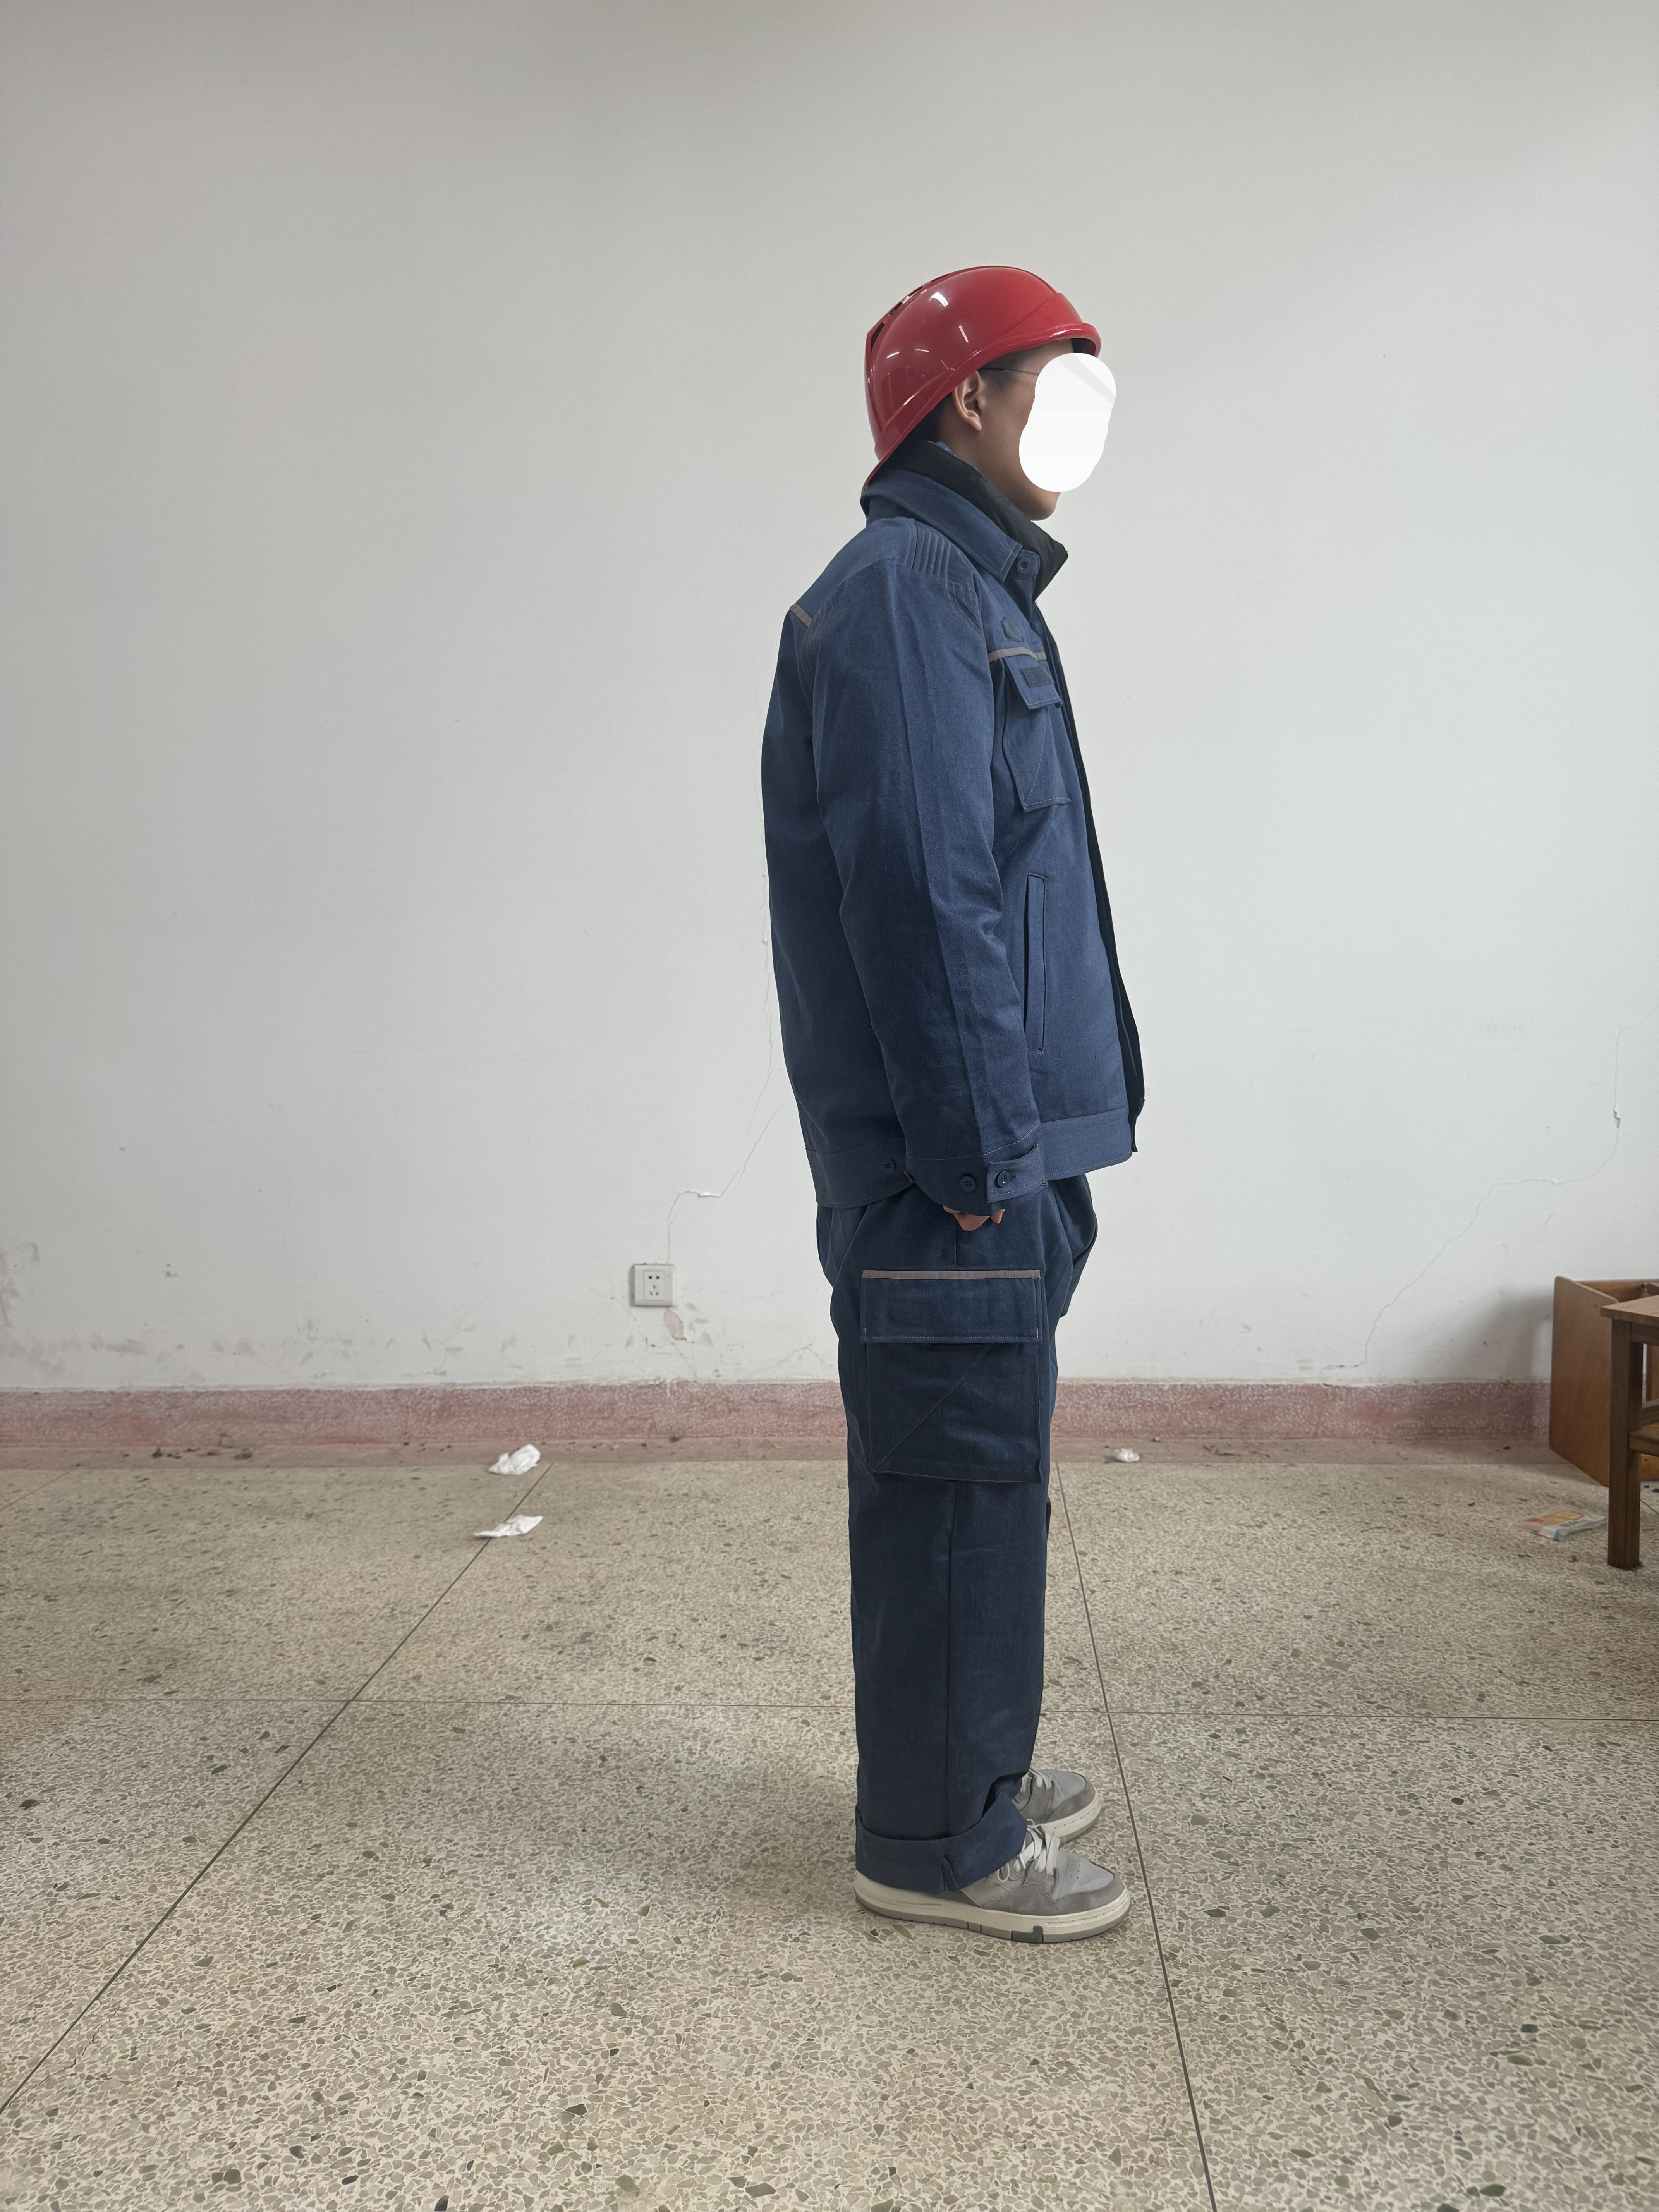noear: (934, 361, 1019, 463)
